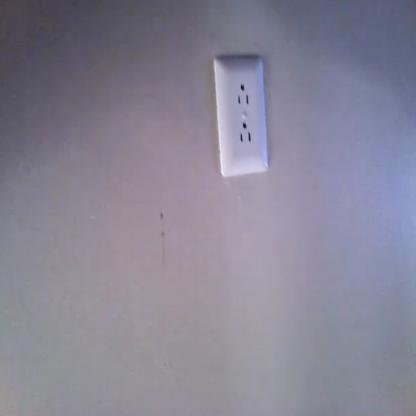OUTLET: (219, 56, 266, 178)
